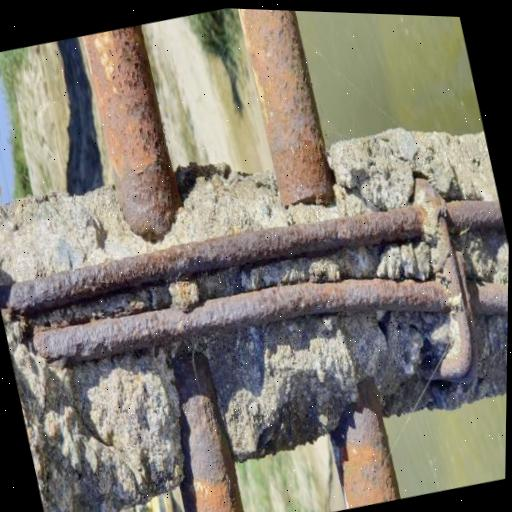exposed_rebar: (33, 180, 508, 383), (0, 203, 433, 317)
spalling: (0, 129, 509, 512)
